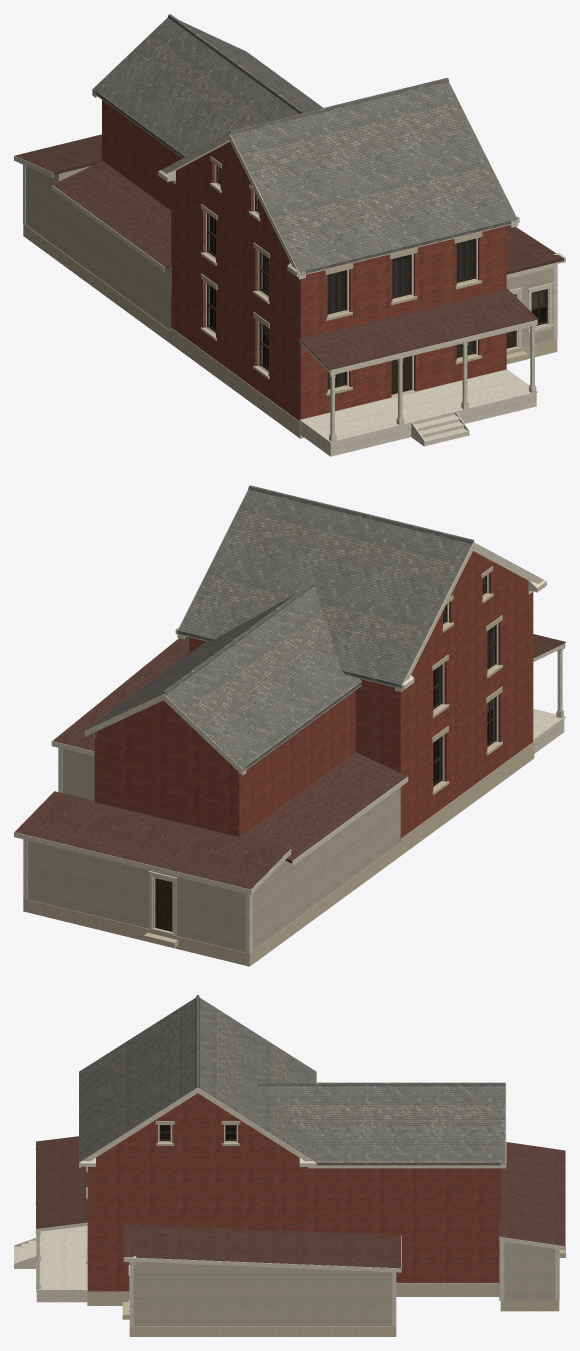
The model's file is house-95-97.glb.
3 views of the same model, one above another, from view 1: azimuth 30°, elevation 25°; view 2: azimuth 150°, elevation 25°; view 3: azimuth 270°, elevation 25° (orthographic). The views are drawn at different scales.
Visible parts, largest first — view 1: House9597; view 2: House9597; view 3: House9597.
Boxes of the visible parts, x1,y1,x2,y2 form: House9597: (14,14,565,456); House9597: (14,485,565,966); House9597: (14,995,565,1336).
Bounding box in the file's own units: 12.35 × 10.44 × 23.48.
Materials: 9 (8 with a texture image).
